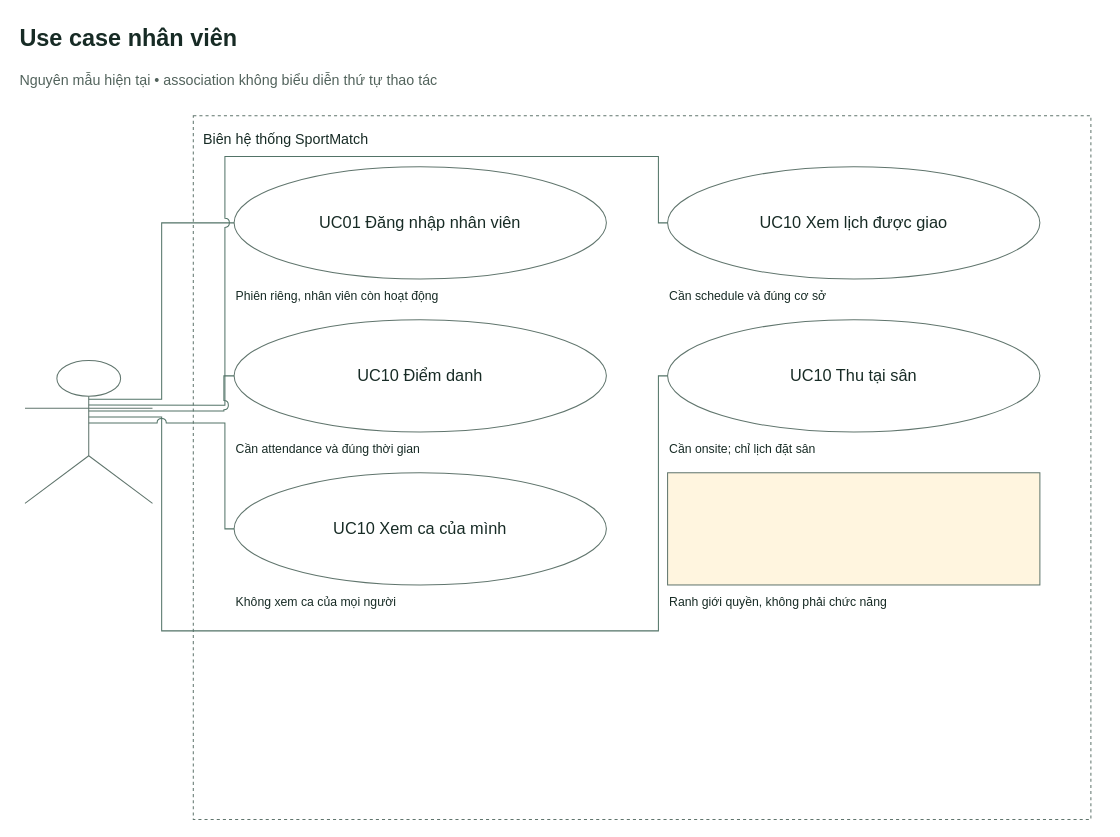
The diagram is 1120 pixels wide and 837 high, and some of its shapes have lost their labels. Here are the shapes that lost their labels. From the top down, the centre of each, then its label:
point (88, 431): Nhân viên
point (853, 528): Không được cấp quyền hoặc hoàn
